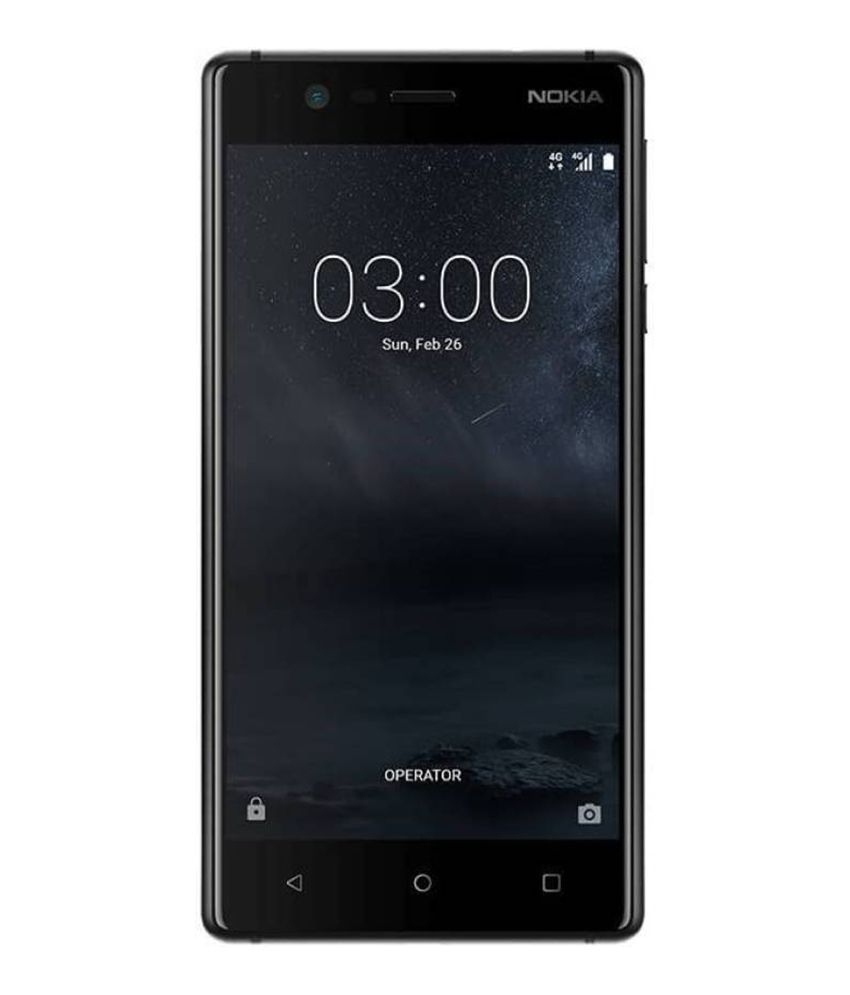mobile: (195, 46, 658, 947)
